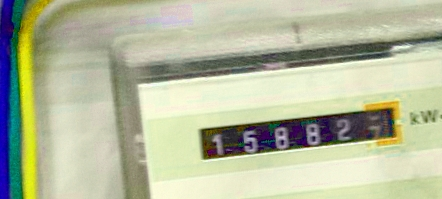1: (210, 131, 226, 158)
2: (335, 115, 353, 143)
5: (240, 128, 259, 155)
7: (366, 122, 382, 140)
8: (271, 125, 291, 150), (303, 120, 321, 146)
screen: (184, 92, 415, 175)
